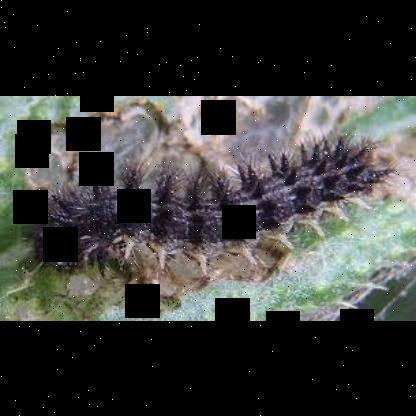oruga: (32, 130, 393, 274)
